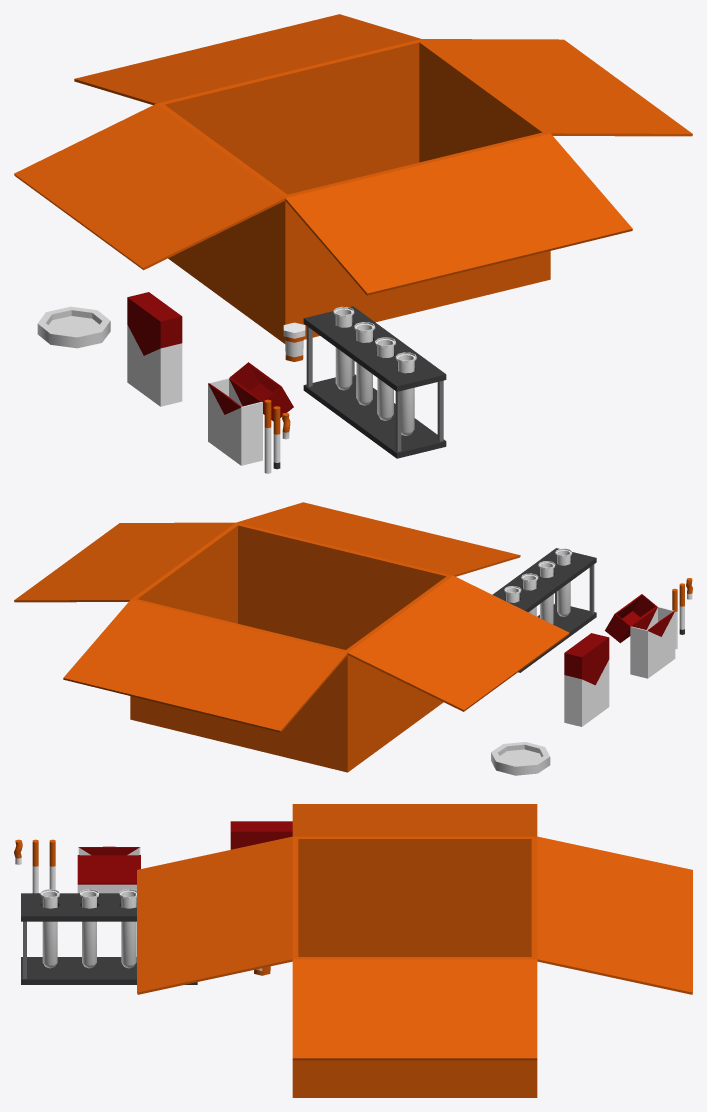
File: Props_C.fbx
The picture shows the model from 3 angles, top to bottom: view 1: azimuth 30°, elevation 25°; view 2: azimuth 150°, elevation 25°; view 3: azimuth 270°, elevation 25°; orthographic projection. The views are drawn at different scales.
Parts seen in each view (by area): view 1: Box001, vialStand, pack of cigarettes, pack of cigarettes ( open ), ashtray, vial002, vial003, vial001, vial, pills; view 2: Box001, pack of cigarettes ( open ), pack of cigarettes, vialStand, ashtray, vial003, vial; view 3: Box001, vialStand, pack of cigarettes ( open ), pack of cigarettes, vial003, vial001, vial.
Part boxes in pixels (x1,y1,x2,y2): Box001: (14, 14, 692, 343); vialStand: (303, 306, 446, 458); pack of cigarettes: (127, 292, 182, 406); pack of cigarettes ( open ): (208, 362, 293, 465); ashtray: (37, 306, 110, 348); vial002: (333, 306, 354, 390); vial003: (395, 352, 416, 435); vial001: (354, 322, 375, 405); vial: (375, 337, 395, 420); pills: (283, 322, 305, 361); Box001: (14, 502, 569, 772); pack of cigarettes ( open ): (605, 594, 675, 678); pack of cigarettes: (564, 633, 609, 726); vialStand: (492, 548, 596, 672); ashtray: (491, 742, 550, 775); vial003: (555, 548, 572, 616); vial: (538, 561, 555, 624); Box001: (137, 804, 692, 1097); vialStand: (21, 893, 197, 984); pack of cigarettes ( open ): (77, 846, 140, 893); pack of cigarettes: (230, 821, 292, 849); vial003: (40, 889, 59, 968); vial001: (119, 889, 136, 968); vial: (80, 889, 98, 968).
Bounding box in the file's own units: 41.16 × 9.95 × 43.71.
